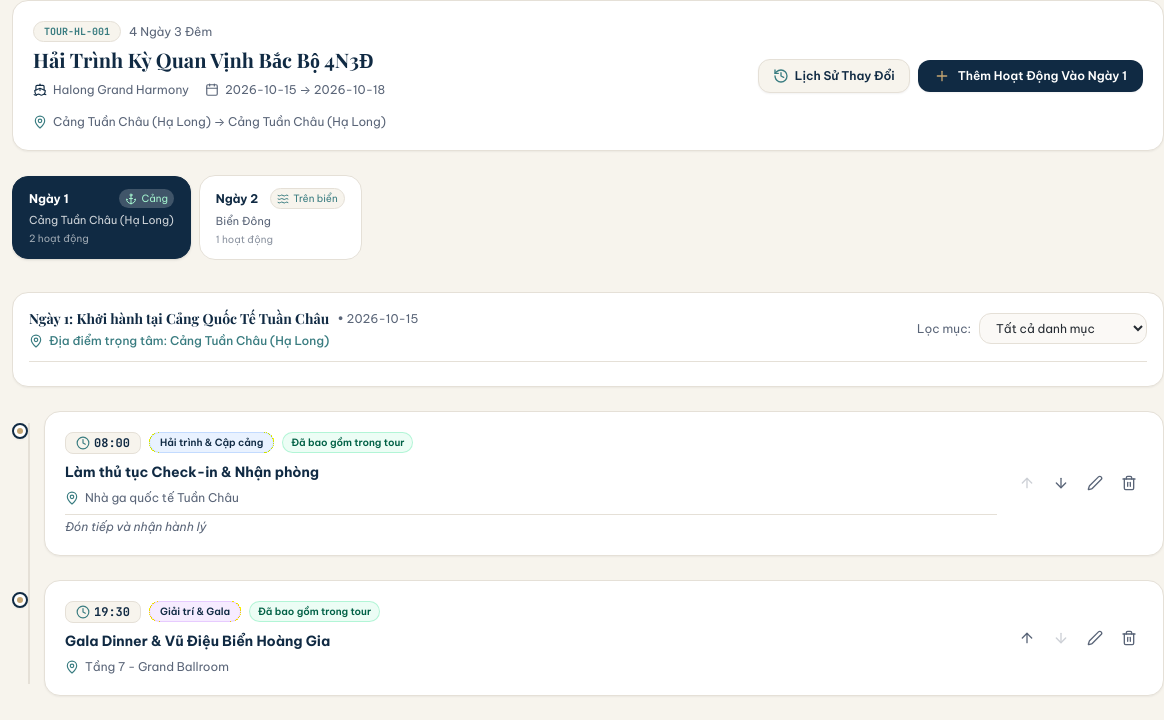
Test: DailyItineraryTimeline (KAN-119) › switches between days when clicking tabs
Expected: the heading "Làm thủ tục Check-in & Nhận phòng" is shown, left=65, top=462, right=319, bottom=480
Click the button "Ngày 2 Trên biển Biển Đông 1 hoạt động".
click(280, 217)  # box left=199, top=175, right=362, bottom=260
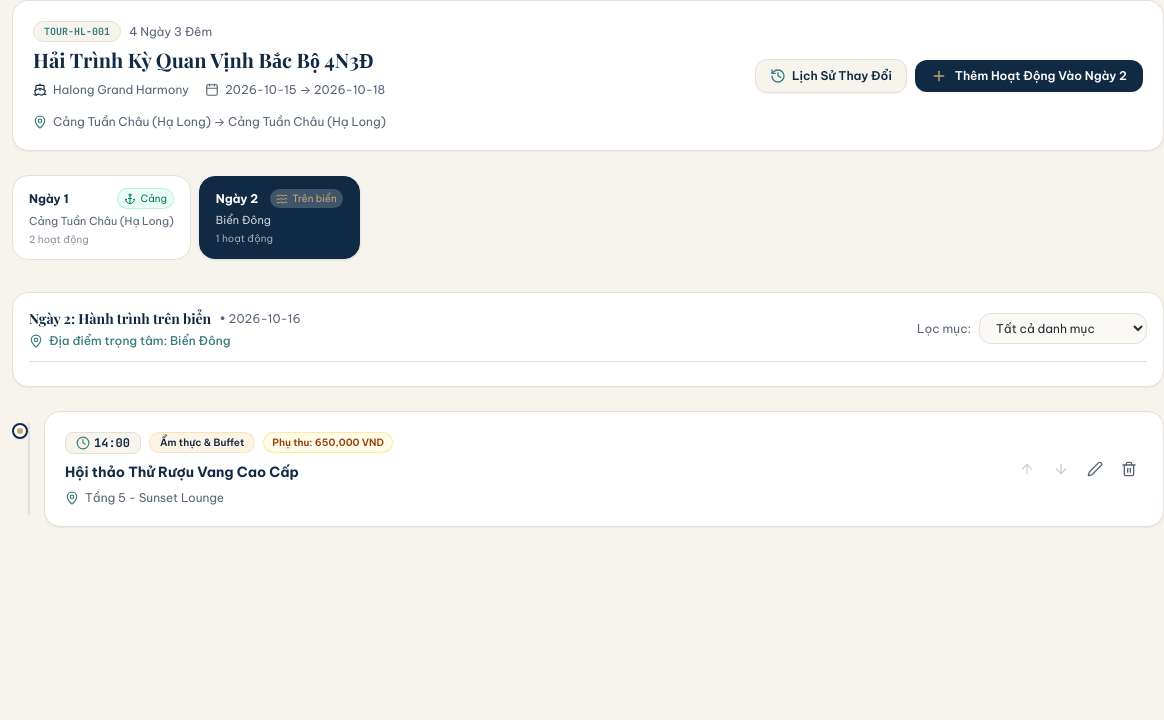
Result: the heading "Hội thảo Thử Rượu Vang Cao Cấp" is shown at left=65, top=462, right=299, bottom=480
Result: the heading "Làm thủ tục Check-in & Nhận phòng" is gone
